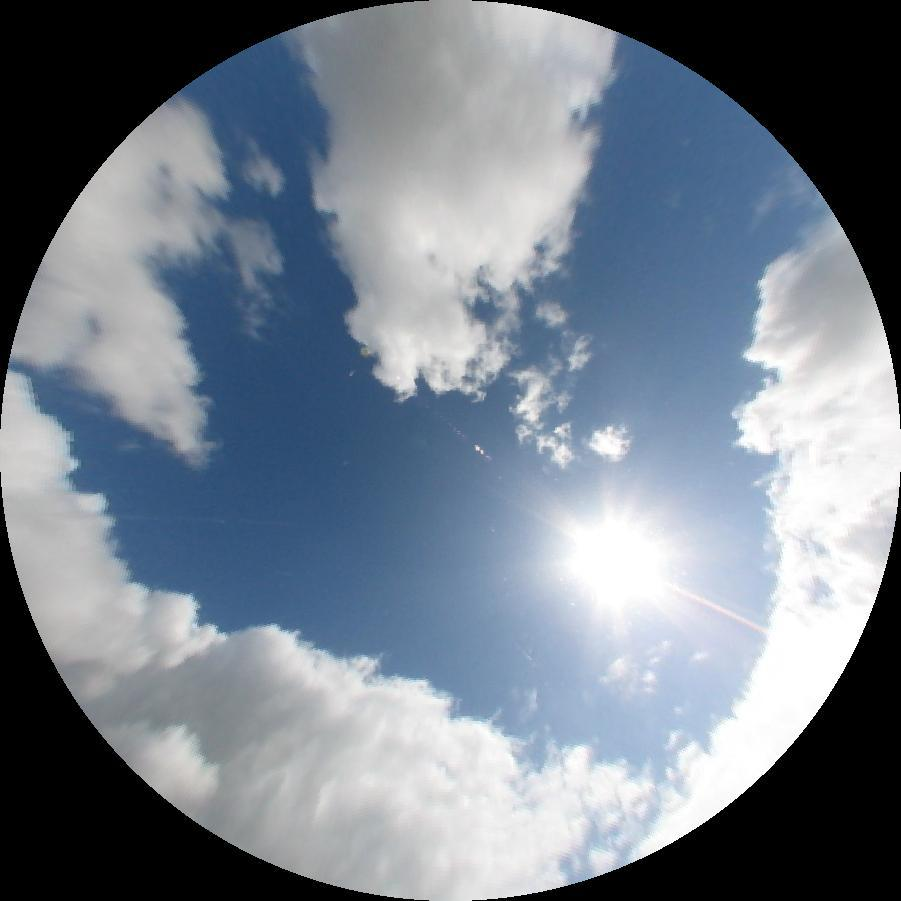contrail young: (513, 641, 533, 663)
parasite: (662, 579, 770, 636)
sun: (562, 507, 674, 617)
